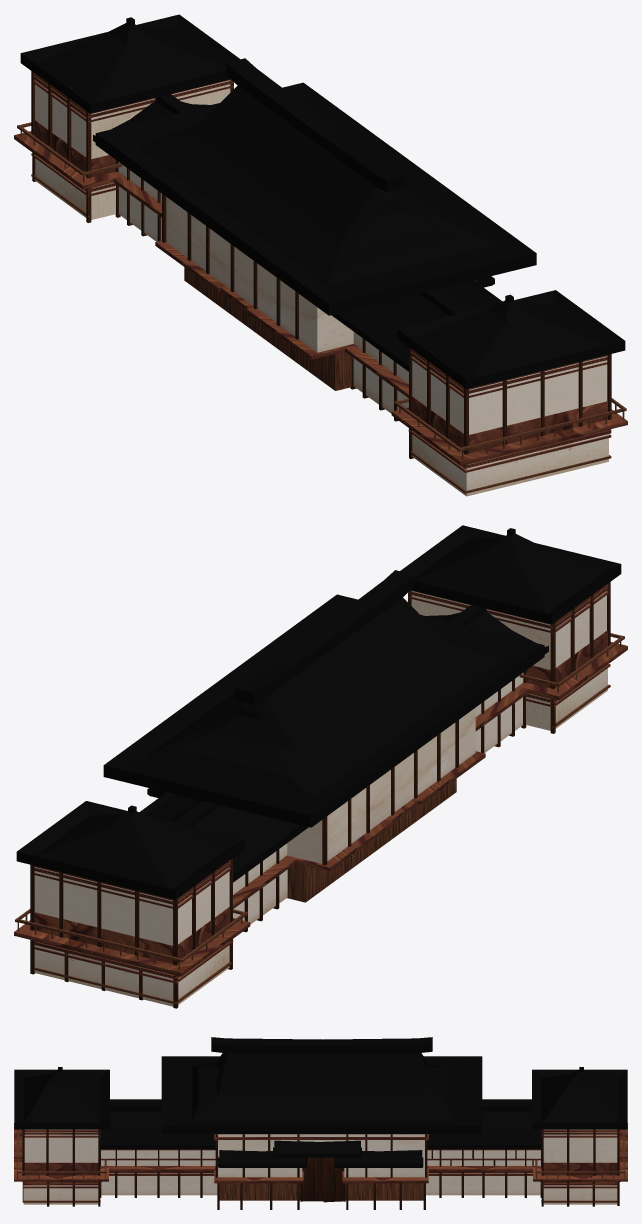
The model's file is house0.fbx.
3 views of the same model, one above another, from view 1: azimuth 30°, elevation 25°; view 2: azimuth 150°, elevation 25°; view 3: azimuth 270°, elevation 25° (orthographic). The views are drawn at different scales.
Parts seen in each view (by area): view 1: longRoof1, longRoof2, longRoof8, pCube59, pCube60, pCube197, longRoof, pCube569, pCube382, pCube656, pCube86, pCube567 (+10 smaller); view 2: longRoof1, longRoof8, longRoof2, pCube569, pCube59, longRoof9, pCube566, pCube197, pCube60, pCube382, pCube657, pCube567 (+10 smaller); view 3: longRoof1, longRoof2, longRoof8, longRoof, pCube59, longRoof9, pCube569, pCube197, pCube382, pCube390, pCube616, pCube60 (+25 smaller).
Boxes of the visible parts, box(x1,y1,x2,y2) form: longRoof1: box(95, 58, 536, 315); longRoof2: box(397, 290, 625, 389); longRoof8: box(20, 14, 239, 113); pCube59: box(166, 197, 353, 352); pCube60: box(412, 356, 607, 434); pCube197: box(412, 356, 608, 496); longRoof: box(331, 280, 502, 371); pCube569: box(35, 80, 230, 219); pCube382: box(184, 267, 351, 390); pCube656: box(411, 396, 607, 453); pCube86: box(391, 407, 627, 465); pCube567: box(14, 131, 123, 189); longRoof1: box(103, 570, 544, 827); longRoof8: box(16, 801, 244, 899); longRoof2: box(400, 525, 621, 624); pCube569: box(34, 867, 229, 1006); pCube59: box(287, 708, 475, 863); longRoof9: box(139, 792, 308, 882); pCube566: box(34, 867, 229, 945); pCube197: box(411, 591, 607, 730); pCube60: box(411, 591, 606, 669); pCube382: box(287, 779, 456, 902); pCube657: box(34, 906, 230, 963); pCube567: box(14, 918, 250, 976); longRoof1: box(161, 1037, 482, 1133); longRoof2: box(14, 1067, 109, 1129); longRoof8: box(532, 1067, 627, 1129); longRoof: box(100, 1099, 215, 1149); pCube59: box(218, 1134, 424, 1177); longRoof9: box(427, 1099, 541, 1149); pCube569: box(543, 1129, 617, 1204); pCube197: box(23, 1129, 98, 1204); pCube382: box(219, 1183, 423, 1200); pCube390: box(101, 1173, 217, 1195); pCube616: box(426, 1173, 540, 1195); pCube60: box(24, 1129, 98, 1162).
Bounding box in the file's own units: 13.9 × 13.12 × 51.76.
9 materials, 7 textured.
